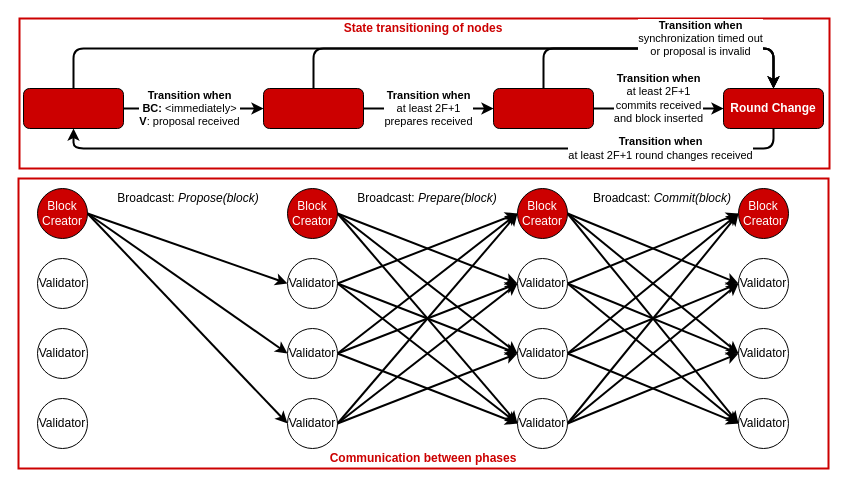
This 847x486 diagram has some shape labels left out. The box of each missing label's shape, as (x1, y1, x2, y2) in pixels:
Commit: (492, 88, 594, 128)
Pre-Prepare: (22, 88, 124, 128)
Prepare: (262, 88, 364, 128)
